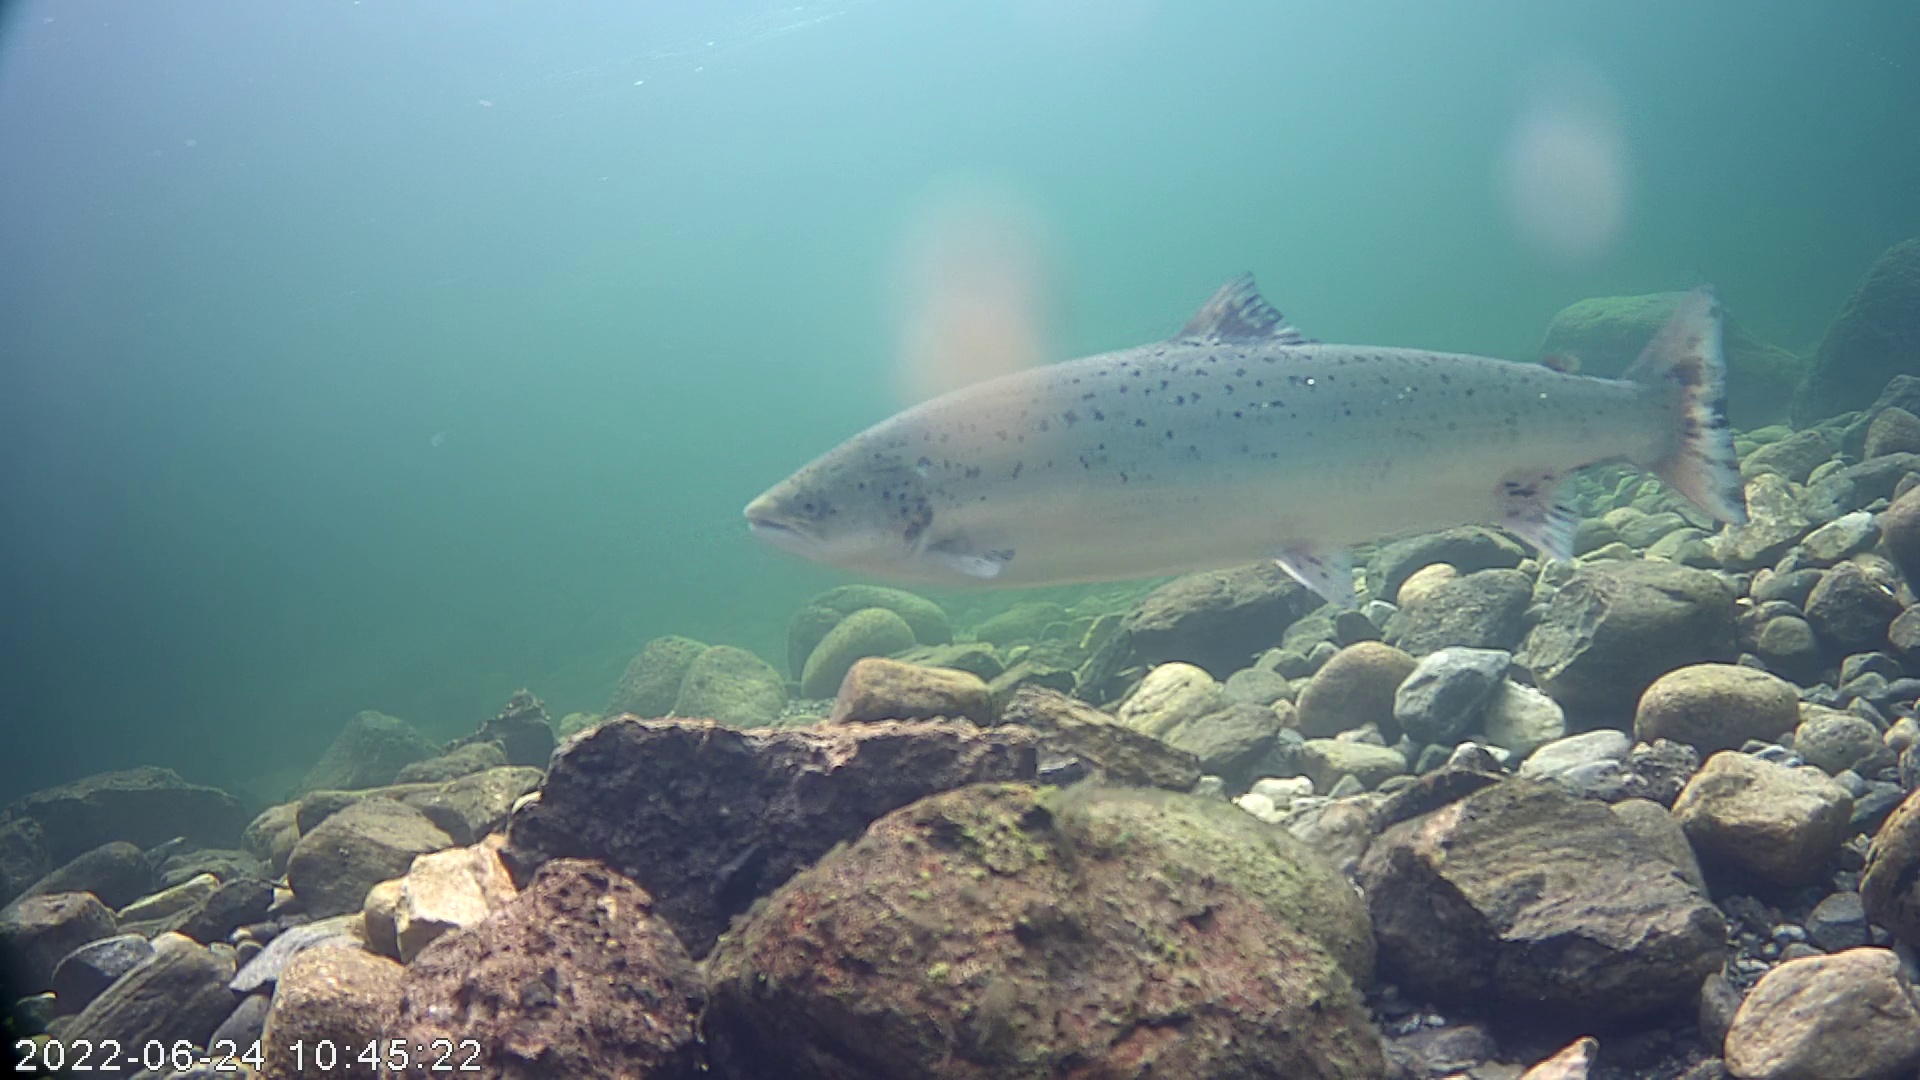salmon: (740, 265, 1753, 613)
